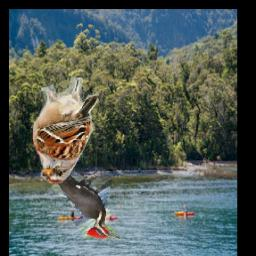Sparrow: (31, 79, 99, 184)
Woodpecker: (49, 134, 121, 239)
